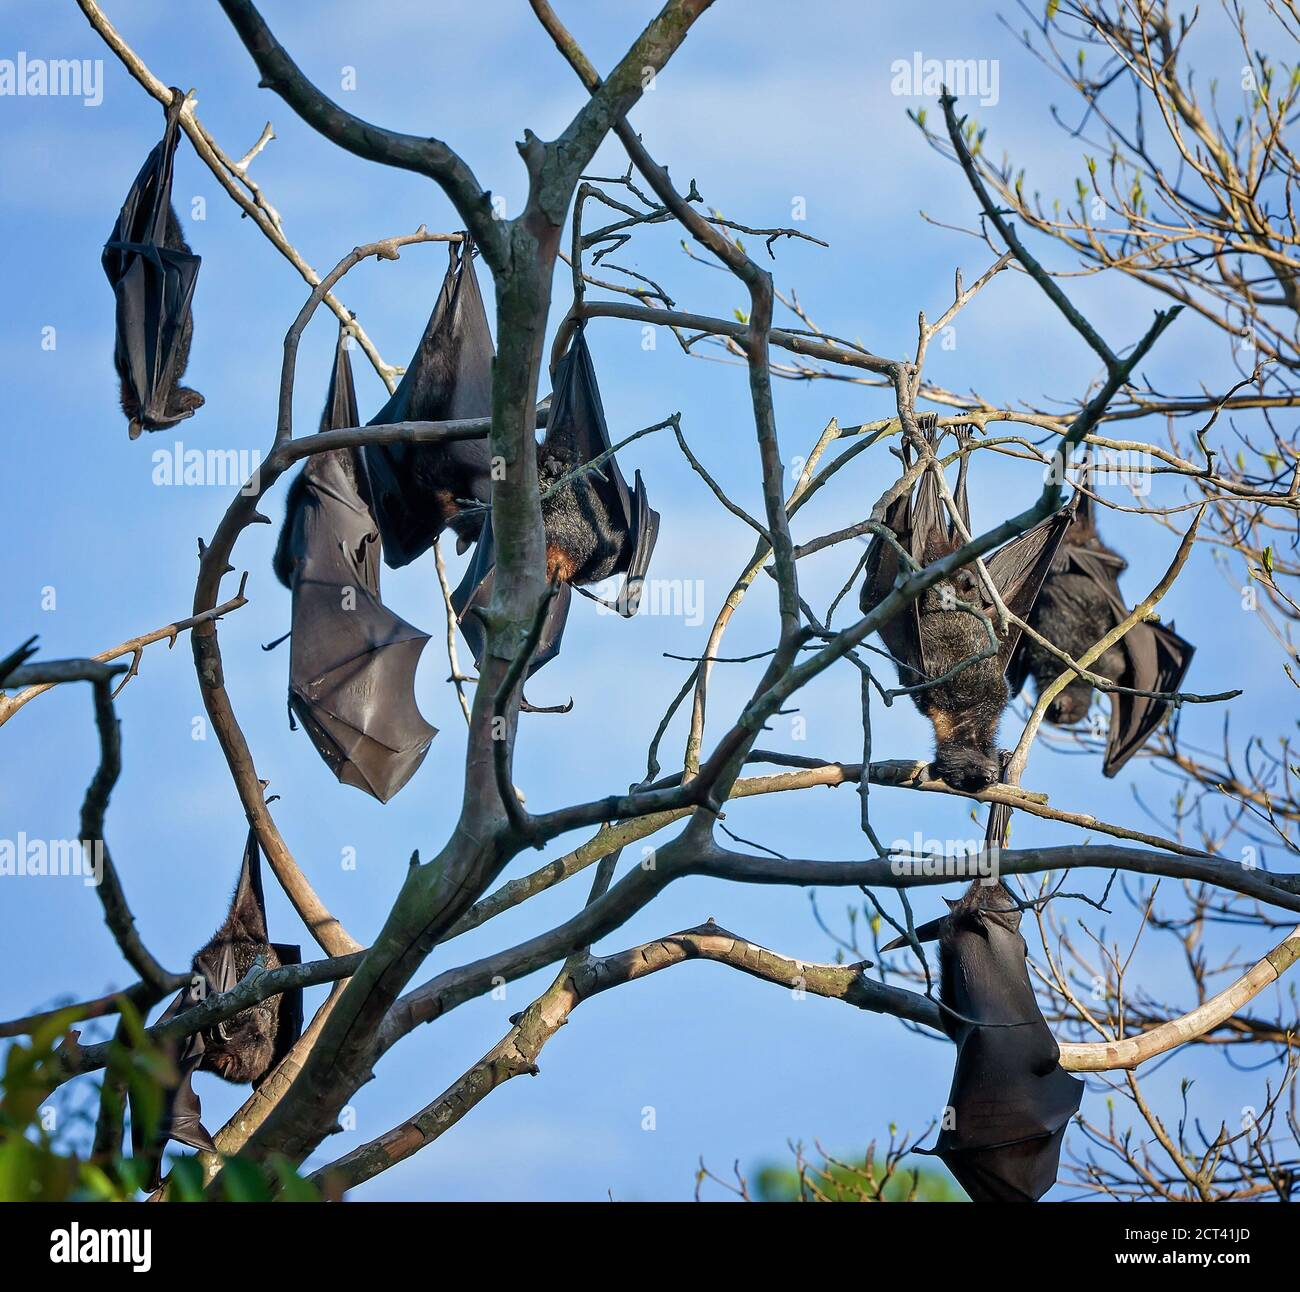bats: (246, 338, 458, 794), (842, 411, 1066, 822), (48, 67, 280, 441), (127, 828, 368, 1167), (520, 291, 714, 655), (989, 448, 1204, 775), (929, 851, 1071, 1213), (371, 220, 502, 566)
